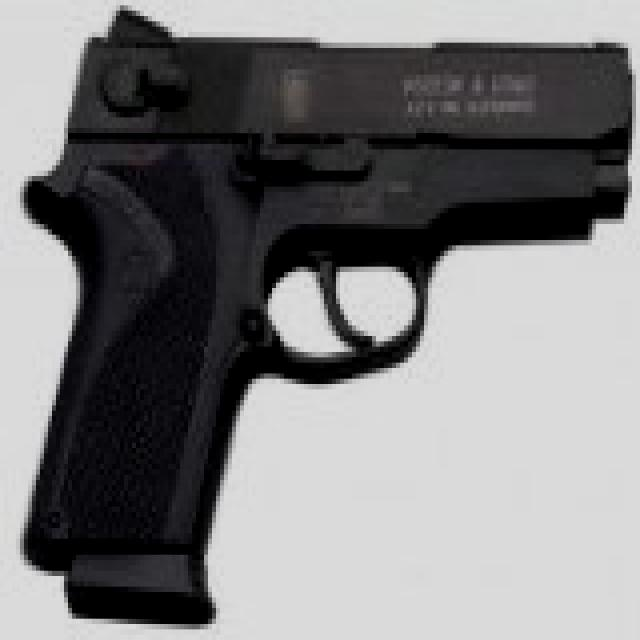pistol: (36, 0, 640, 608)
